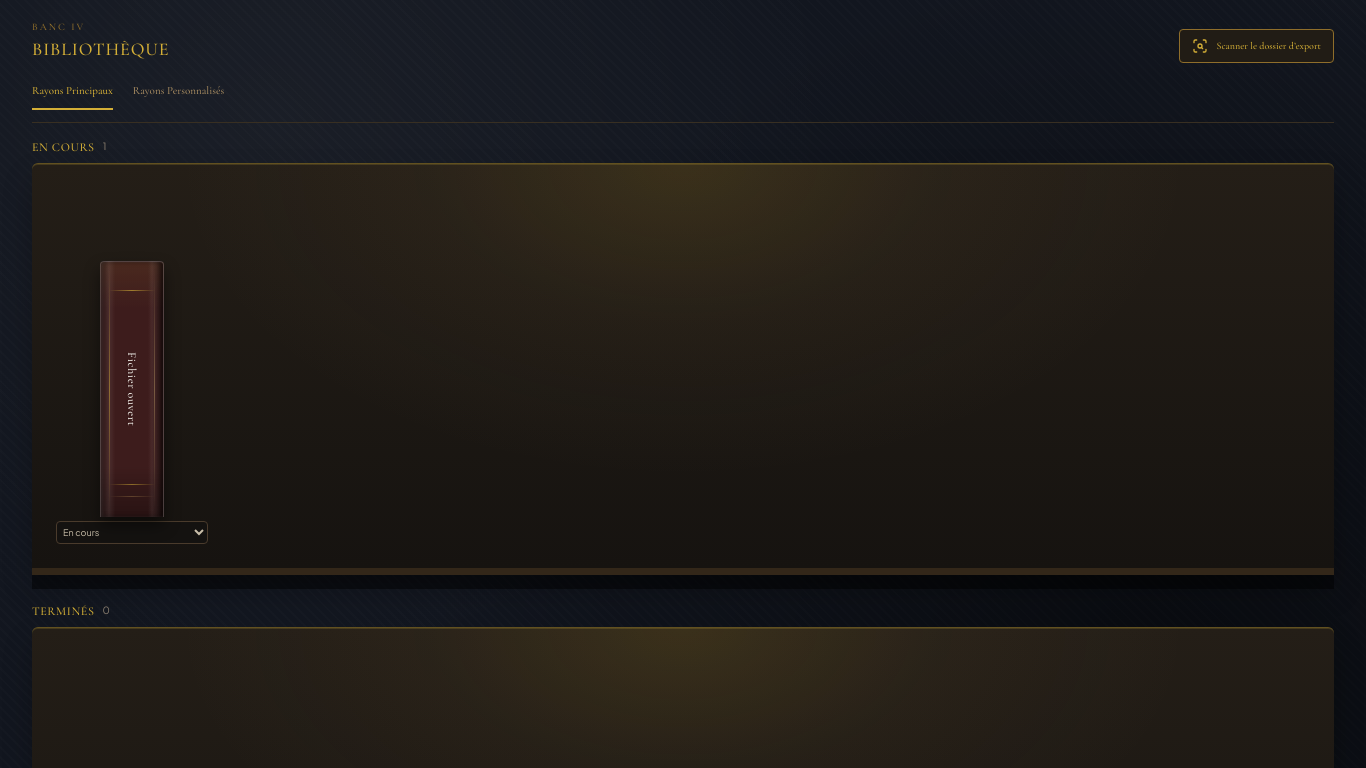
Test: LibraryView › keeps the book and confirmation open if native deletion fails
This screenshot has width=1366, height=768.
What coordinates should you click on to do the following:
click the button with aria-label "Inspecter Fichier ouvert"
I would click on:
 (132, 388)
Its box is [100, 260, 164, 516].
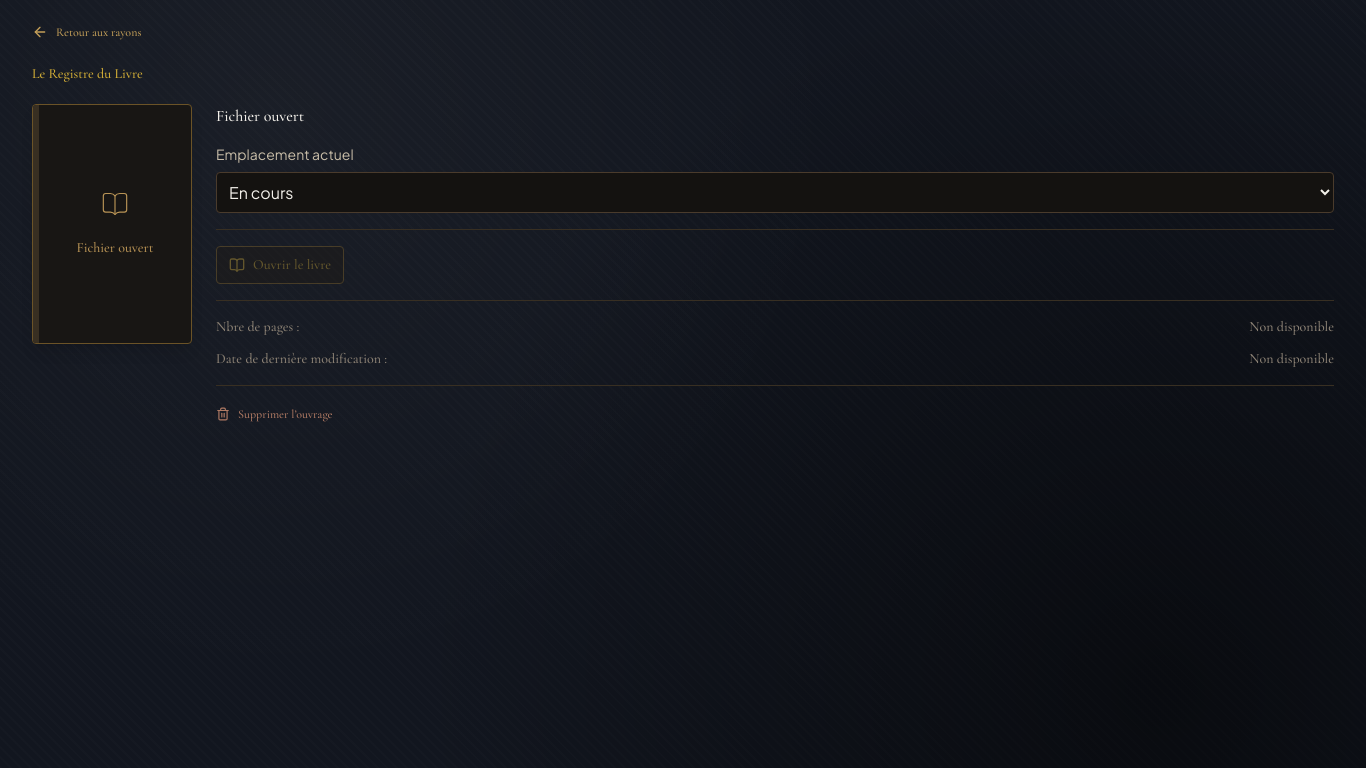
What coordinates should you click on to do the following:
click the button "Supprimer l’ouvrage"
I would click on:
 (274, 414)
Its box is [216, 402, 332, 426].
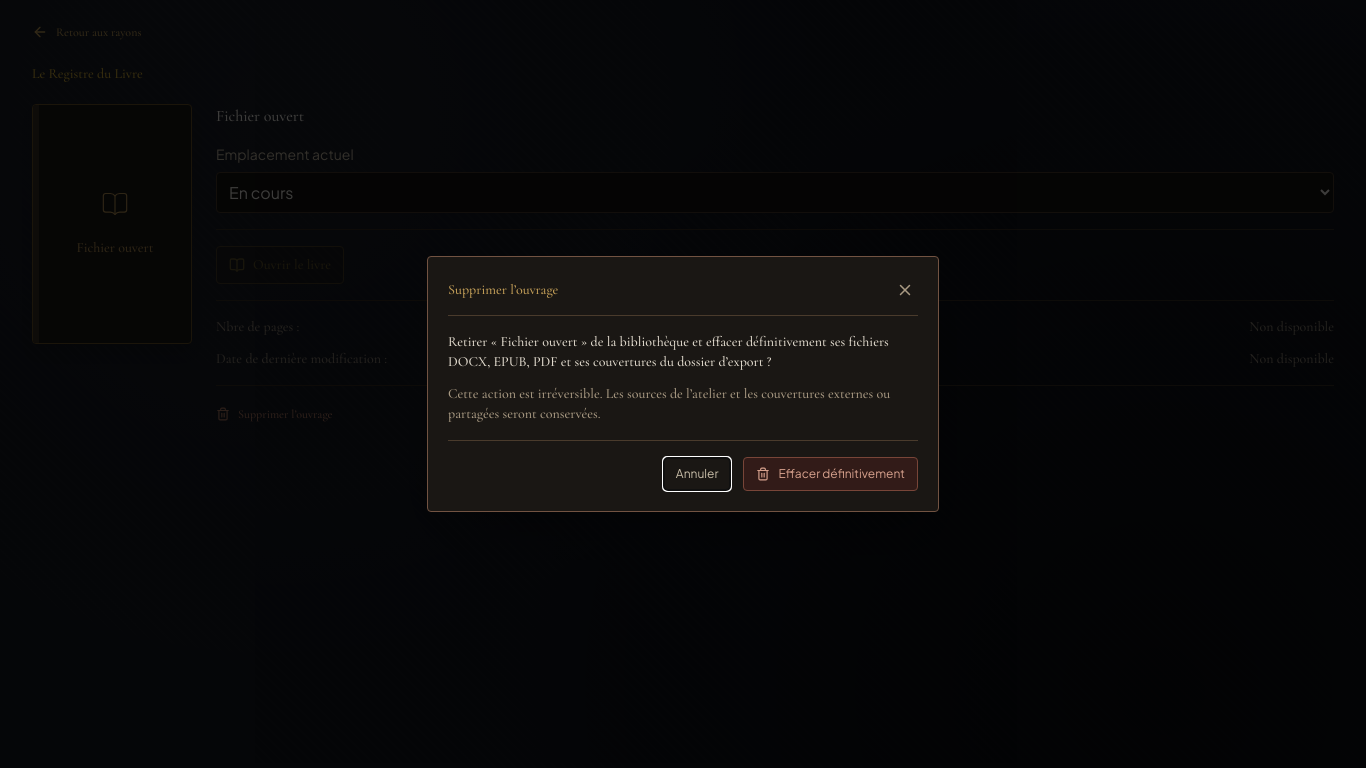
What coordinates should you click on to do the following:
click the button "Effacer définitivement"
I would click on:
 (831, 474)
Its box is [744, 457, 918, 491].
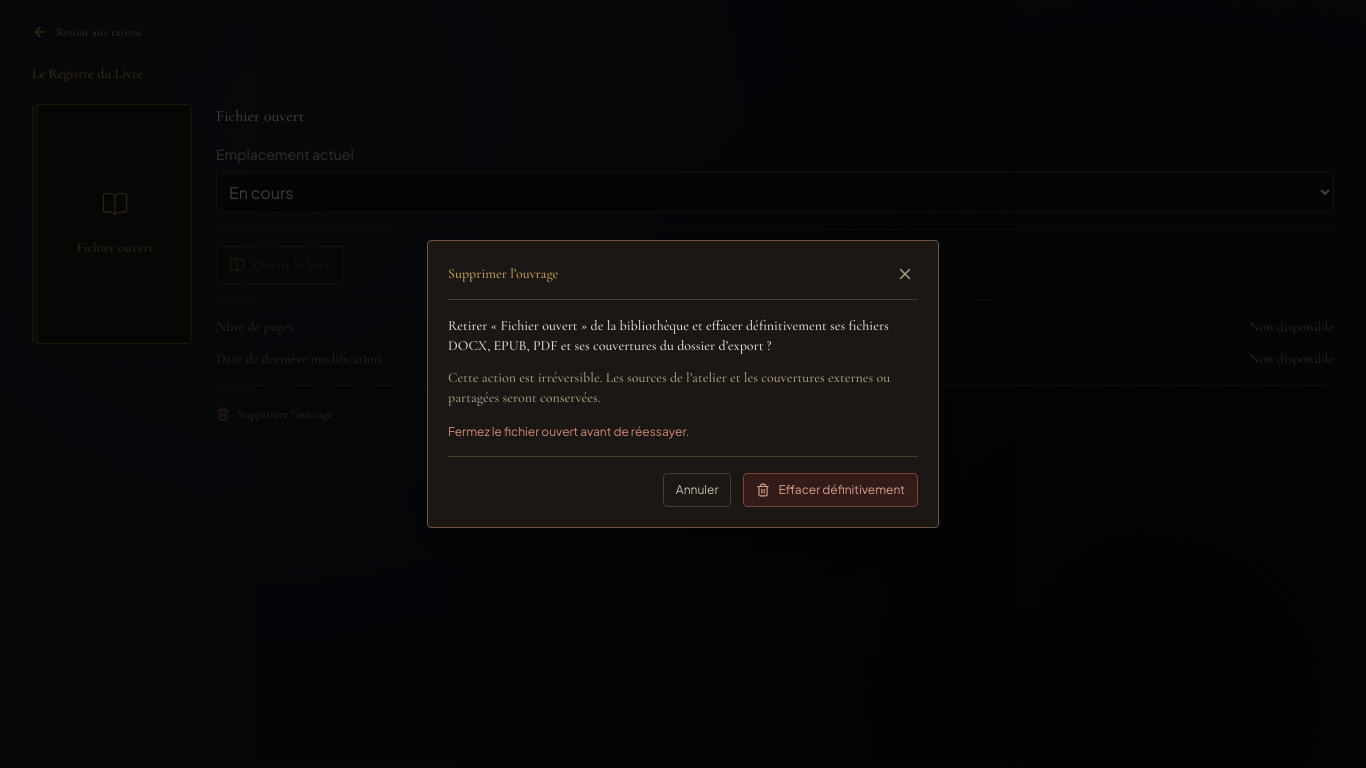
Expected: the heading "Le Registre du Livre" is shown, [32, 65, 143, 82]
Expected: the button "Effacer définitivement" is enabled, [744, 473, 918, 507]
Expected: the message shows "Fermez le fichier ouvert", [448, 424, 690, 439]
